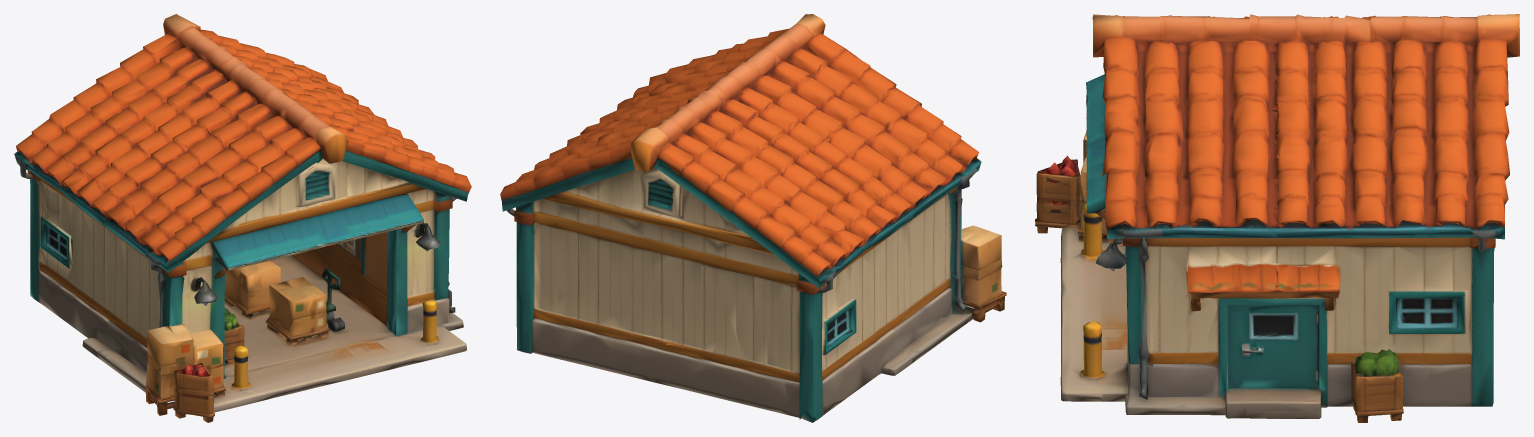
The model's file is Warehouse.glb.
3 views of the same model, side by side, from view 1: azimuth 30°, elevation 25°; view 2: azimuth 150°, elevation 25°; view 3: azimuth 270°, elevation 25° (orthographic). The views are drawn at different scales.
Parts seen in each view (by area): view 1: tripo_node_aa65a4d4-d9cf-4ecc-9774-3146b0fa5329; view 2: tripo_node_aa65a4d4-d9cf-4ecc-9774-3146b0fa5329; view 3: tripo_node_aa65a4d4-d9cf-4ecc-9774-3146b0fa5329.
Boxes of the visible parts, x1,y1,x2,y2 form: tripo_node_aa65a4d4-d9cf-4ecc-9774-3146b0fa5329: [14, 14, 471, 422]; tripo_node_aa65a4d4-d9cf-4ecc-9774-3146b0fa5329: [500, 14, 1006, 422]; tripo_node_aa65a4d4-d9cf-4ecc-9774-3146b0fa5329: [1035, 14, 1519, 422].
Bounding box in the file's own units: 0.9807 × 0.6658 × 0.9424.
1 material, 1 textured.
